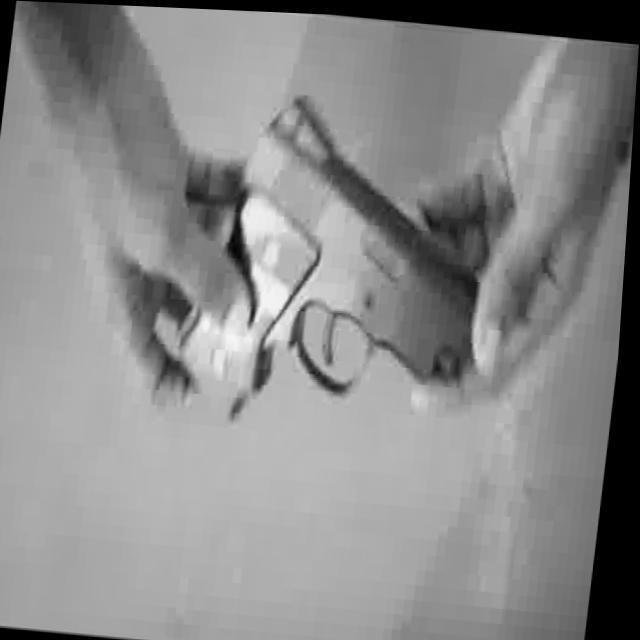weapon: (112, 76, 505, 442)
